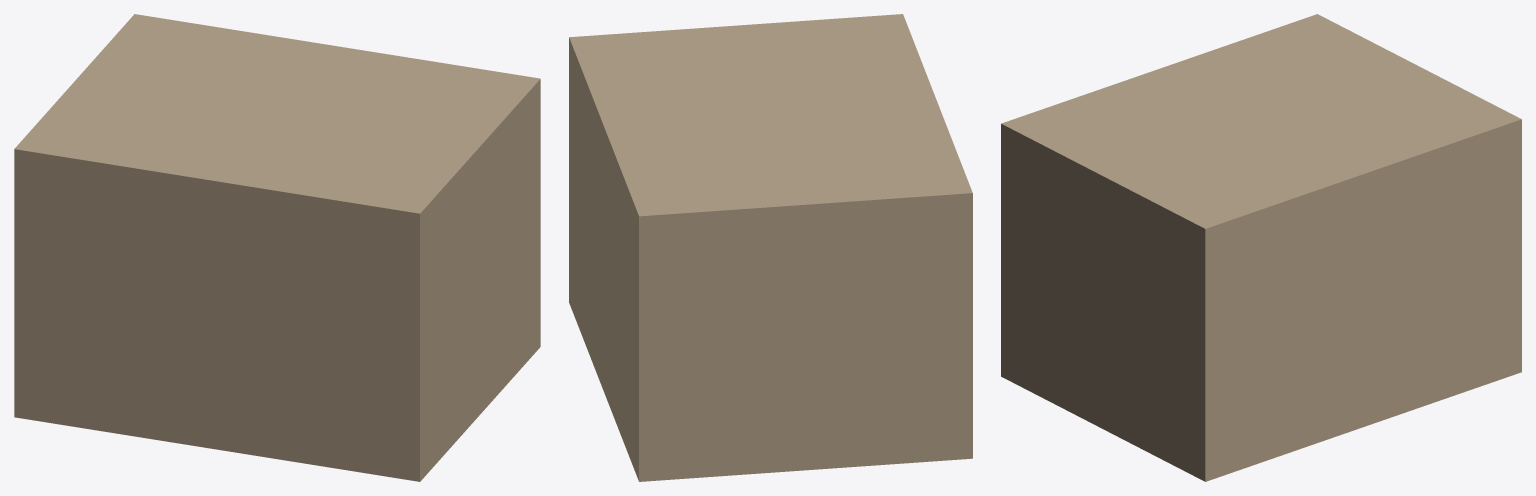
The model's file is bld_106339034.dae.
The picture shows the model from 3 angles, left to right: view 1: azimuth 30°, elevation 25°; view 2: azimuth 150°, elevation 25°; view 3: azimuth 270°, elevation 25°; orthographic projection. The views are drawn at different scales.
Visible parts, largest first — view 1: bld_106339034; view 2: bld_106339034; view 3: bld_106339034.
Boxes of the visible parts, x1,y1,x2,y2 form: bld_106339034: [14, 14, 540, 481]; bld_106339034: [569, 14, 972, 481]; bld_106339034: [1001, 14, 1521, 481].
Bounding box in the file's own units: 14.58 × 14.93 × 8.
